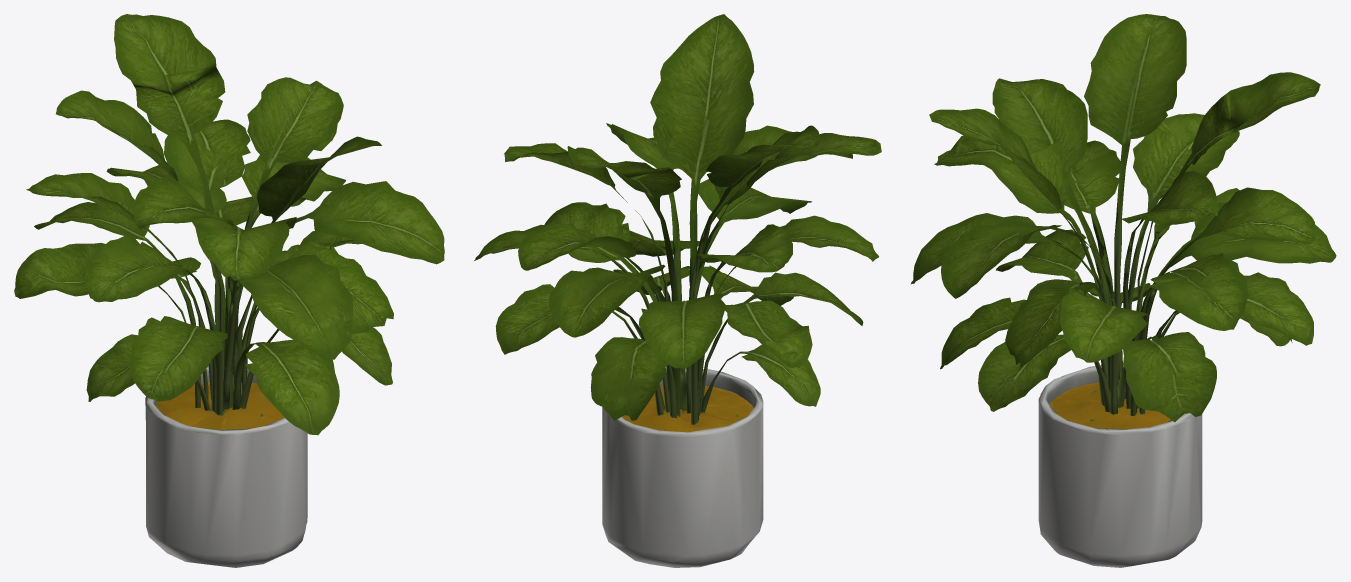
The model's file is potted_plant.glb.
3 renders of one model, left to right at view 1: azimuth 30°, elevation 25°; view 2: azimuth 150°, elevation 25°; view 3: azimuth 270°, elevation 25°, orthographic.
Parts seen in each view (by area): view 1: TesanaFacingY180; view 2: TesanaFacingY180; view 3: TesanaFacingY180.
Part boxes in pixels (<box>): TesanaFacingY180: <box>14,14,444,567</box>; TesanaFacingY180: <box>474,14,881,567</box>; TesanaFacingY180: <box>910,14,1336,567</box>.
Size of the model in its own units: 0.4614 by 0.6 by 0.5108.
1 material, 1 textured.
